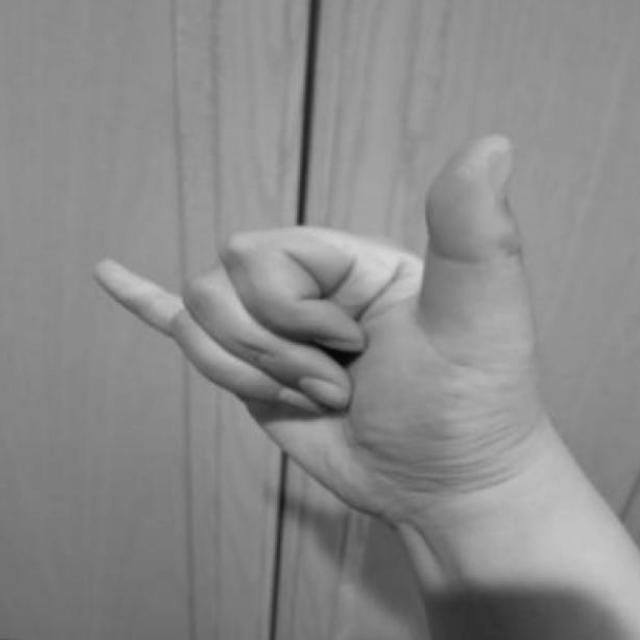Y: (92, 133, 574, 547)
